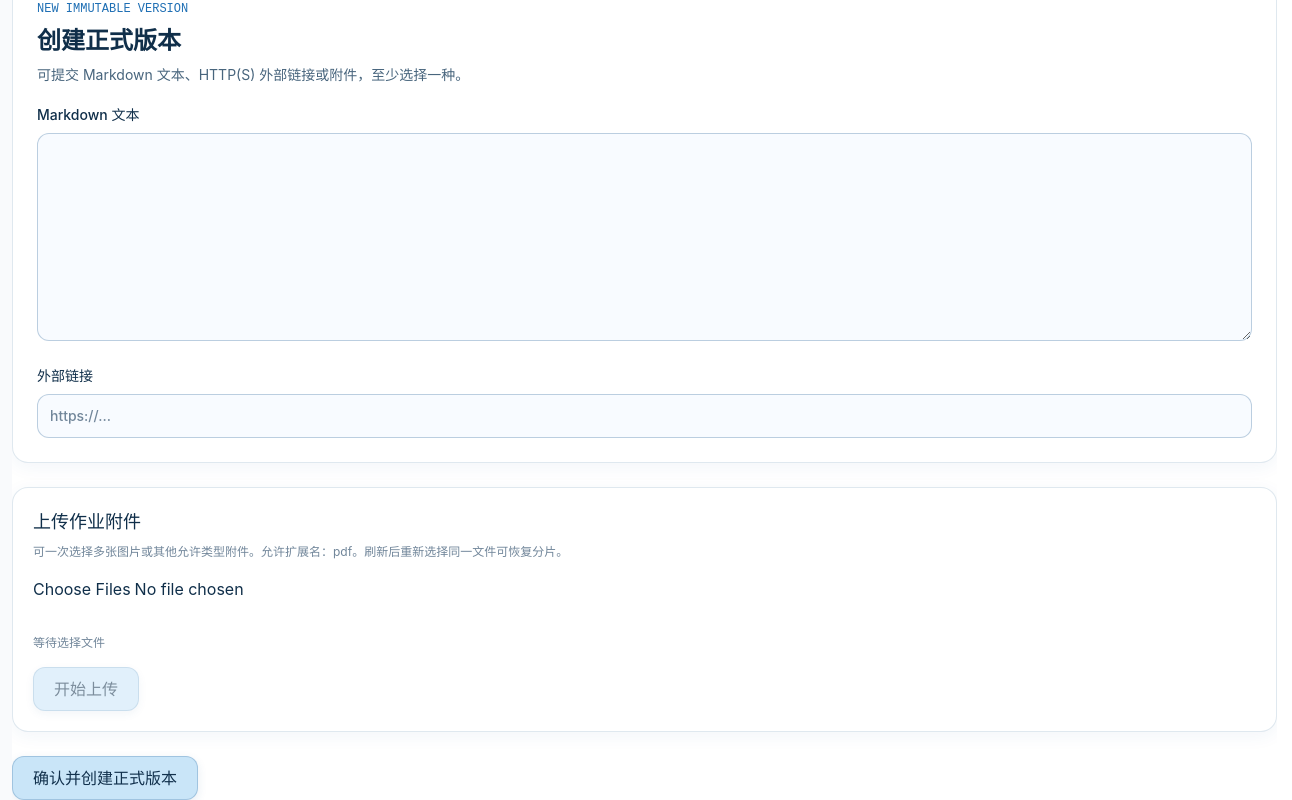
assignment UI › rejects an empty formal submission before confirmation
This screenshot has width=1292, height=800.
(page scrolled)
Click the button "确认并创建正式版本" at (105, 778), box [12,756,198,799]
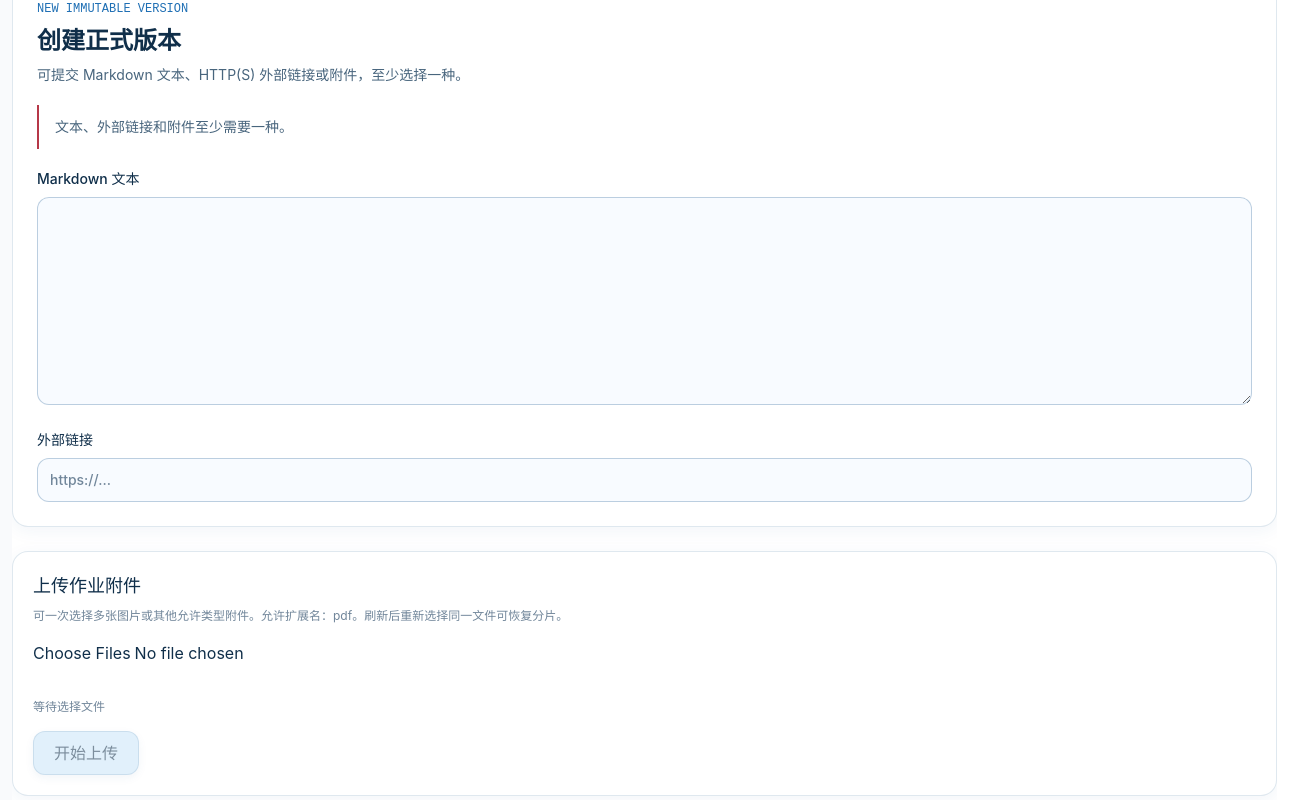
Expected: the text "文本、外部链接和附件至少需要一种。" is shown, [37,105,1252,149]
